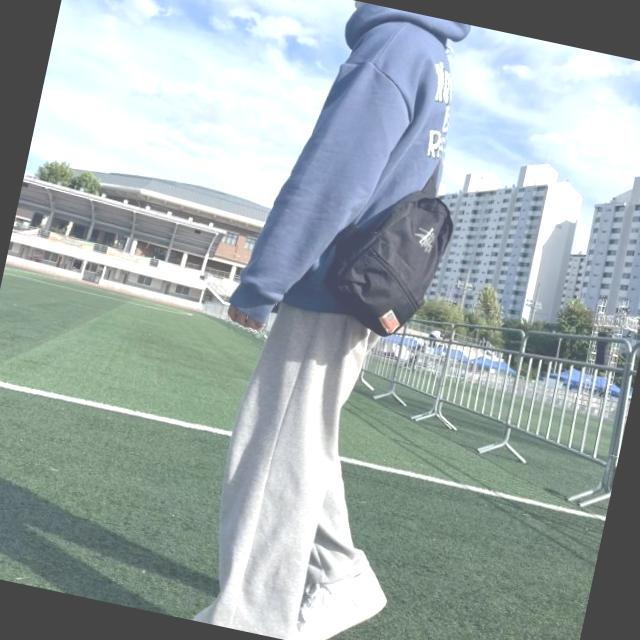hoodies: (225, 0, 470, 357)
trainingpants: (192, 283, 445, 640)
